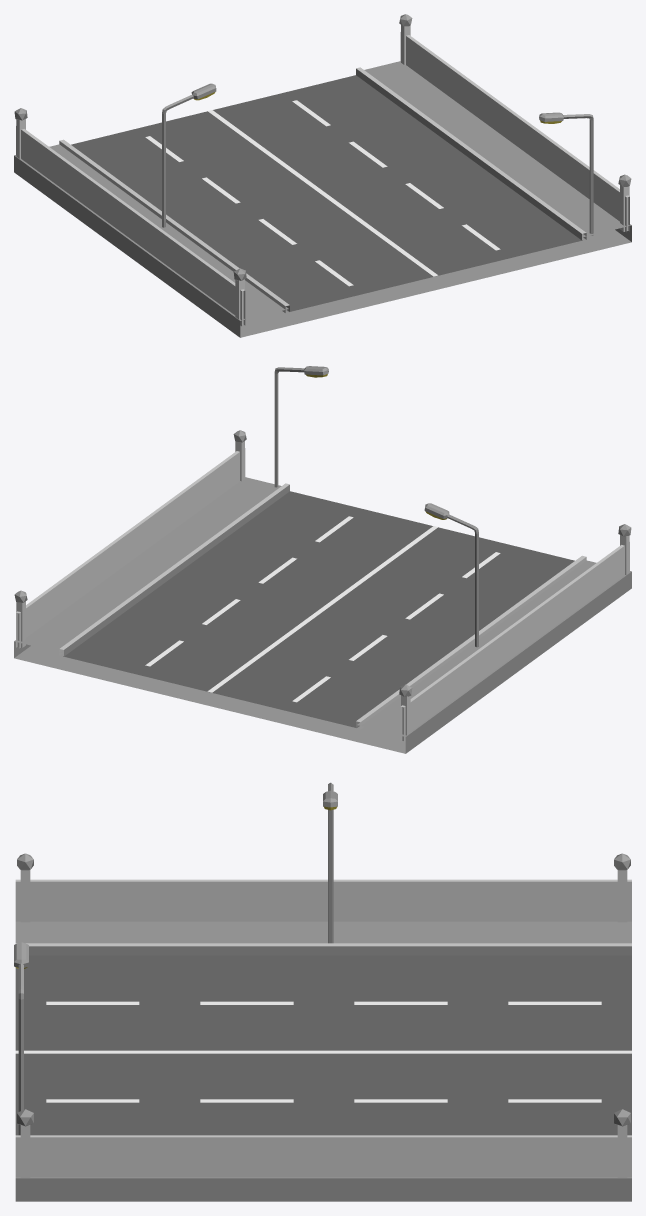
The model's file is road_tile_bridge_2x2_001.fbx.
3 renders of one model, top to bottom at view 1: azimuth 30°, elevation 25°; view 2: azimuth 150°, elevation 25°; view 3: azimuth 270°, elevation 25°, orthographic. The views are drawn at different scales.
Parts seen in each view (by area): view 1: road_tile_bridge_2x2_001; view 2: road_tile_bridge_2x2_001; view 3: road_tile_bridge_2x2_001.
Part boxes in pixels (left/top/right/bottom): road_tile_bridge_2x2_001: left=14, top=14, right=631, bottom=337; road_tile_bridge_2x2_001: left=14, top=366, right=631, bottom=753; road_tile_bridge_2x2_001: left=14, top=782, right=631, bottom=1201.
Bounding box in the file's own units: 1618 × 577 × 1605.
